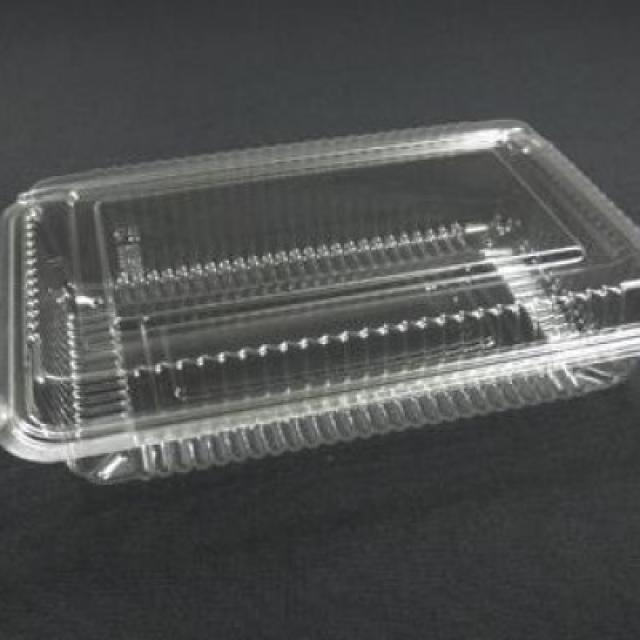apple_fruit: (7, 84, 638, 525)
